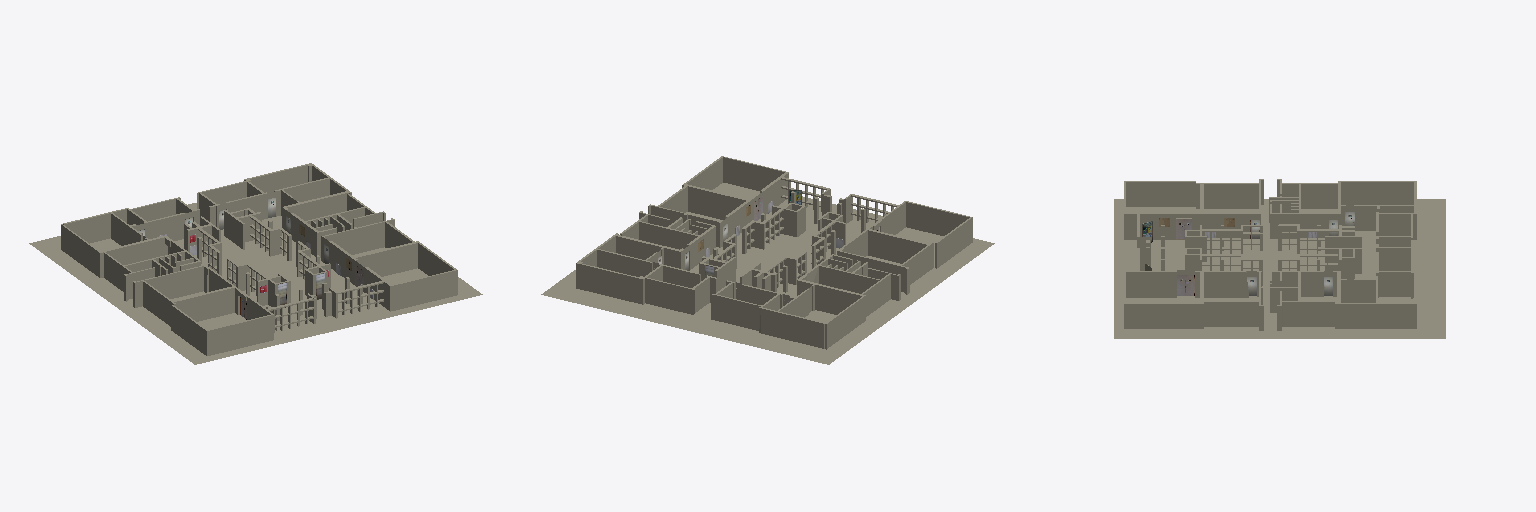
3 renders of one model, left to right at view 1: azimuth 30°, elevation 25°; view 2: azimuth 150°, elevation 25°; view 3: azimuth 270°, elevation 25°, orthographic.
Visible parts, largest first — view 1: Plane_Plane.001; view 2: Plane_Plane.001; view 3: Plane_Plane.001.
Part boxes in pixels (x1,y1,x2,y2): Plane_Plane.001: (29, 163, 482, 364); Plane_Plane.001: (541, 156, 994, 364); Plane_Plane.001: (1114, 179, 1445, 338).
Size of the model in its own units: 10.25 by 0.8921 by 10.25.
Materials: 15 (7 with a texture image).